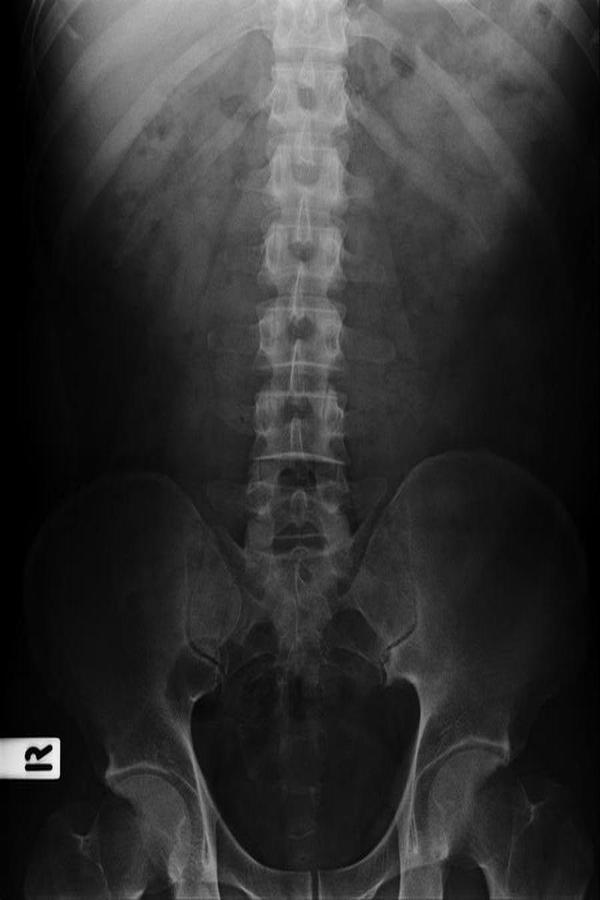lumbar scoliosis: (241, 8, 361, 575)
